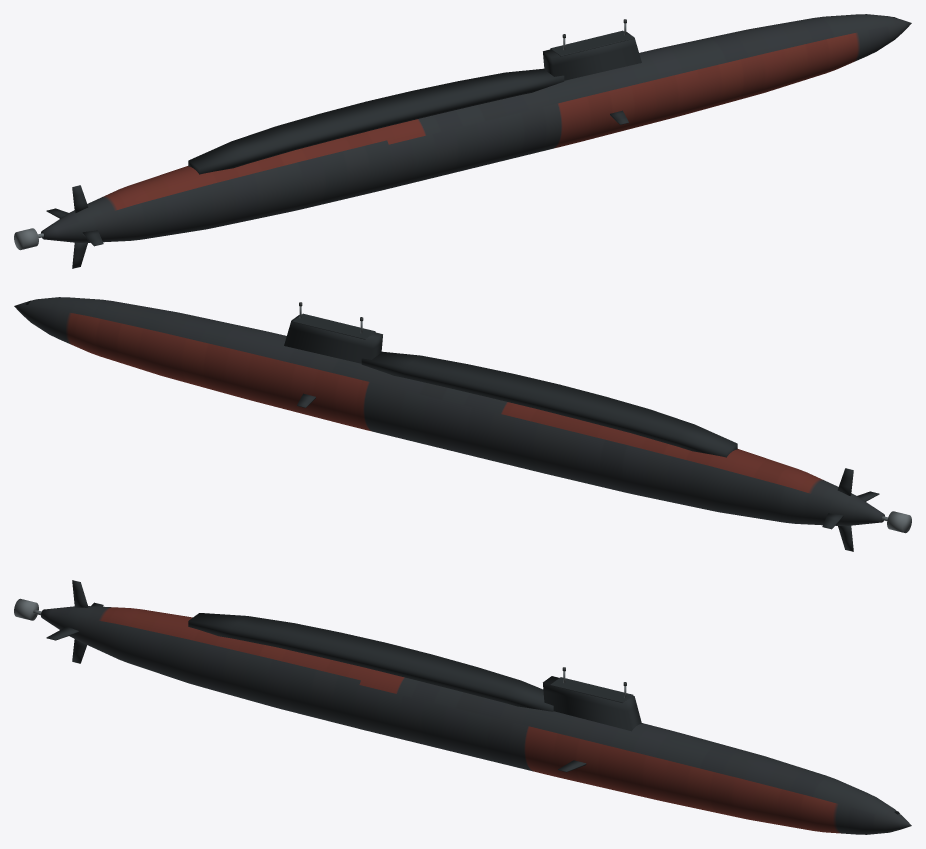
The model's file is RU_SSBN_DeltaIV.glb.
3 renders of one model, top to bottom at view 1: azimuth 30°, elevation 25°; view 2: azimuth 150°, elevation 25°; view 3: azimuth 330°, elevation 25°, orthographic.
Parts seen in each view (by area): view 1: RU_SSBN_DeltaIV_LOD0; view 2: RU_SSBN_DeltaIV_LOD0; view 3: RU_SSBN_DeltaIV_LOD0.
Boxes of the visible parts, bbox=[...] form: RU_SSBN_DeltaIV_LOD0: bbox=[14, 14, 911, 268]; RU_SSBN_DeltaIV_LOD0: bbox=[14, 297, 911, 551]; RU_SSBN_DeltaIV_LOD0: bbox=[14, 580, 911, 834].
Size of the model in its own units: 172 by 20.9 by 20.77.
Materials: 6 (1 with a texture image).
